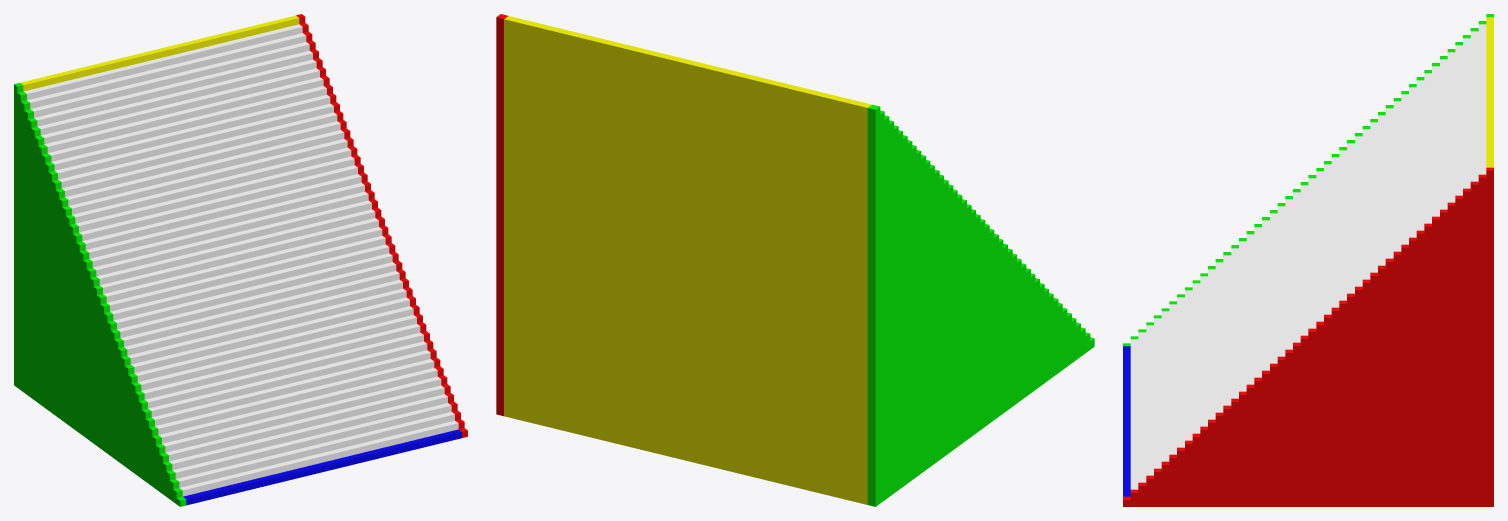
The model's file is 48voxCube.obj.
The picture shows the model from 3 angles, left to right: view 1: azimuth 30°, elevation 25°; view 2: azimuth 150°, elevation 25°; view 3: azimuth 270°, elevation 25°; orthographic projection. The views are drawn at different scales.
Size of the model in its own units: 4.8 by 4.8 by 4.8.
Materials: 1 (1 with a texture image).
